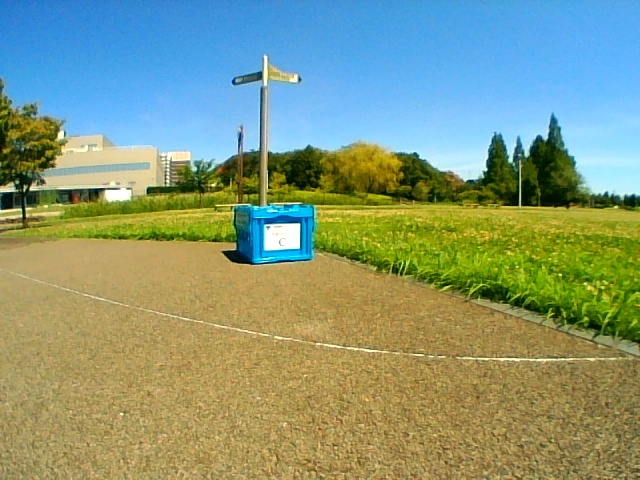blue_box: (236, 206, 312, 262)
tag: (265, 224, 298, 249)
